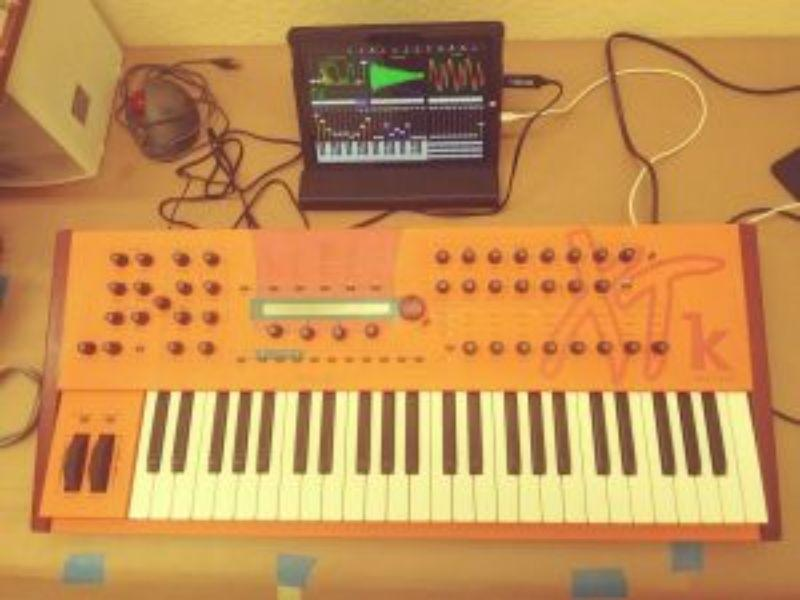synthesizer: (22, 217, 779, 549)
